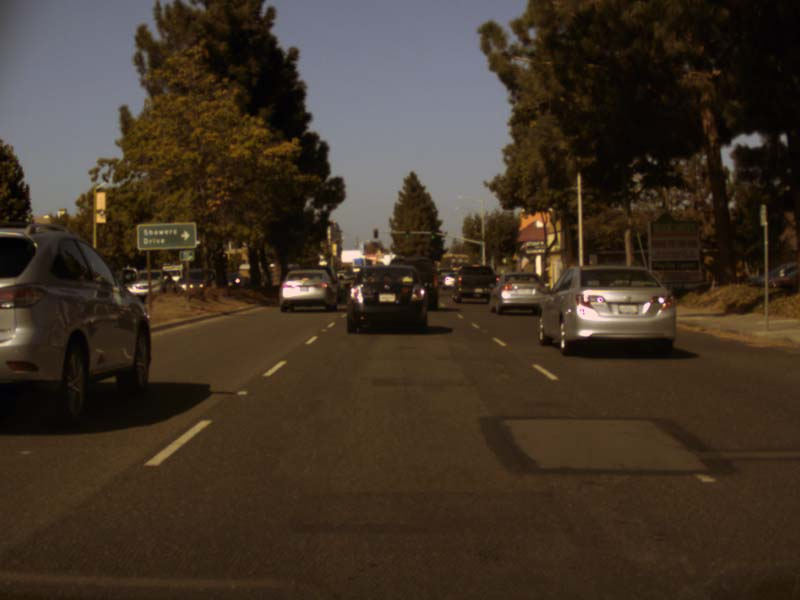Green: (404, 228, 410, 237), (431, 229, 435, 239)
